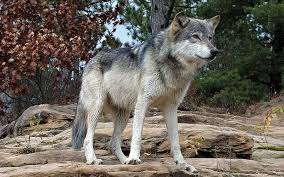Lobo: (47, 14, 236, 169)
